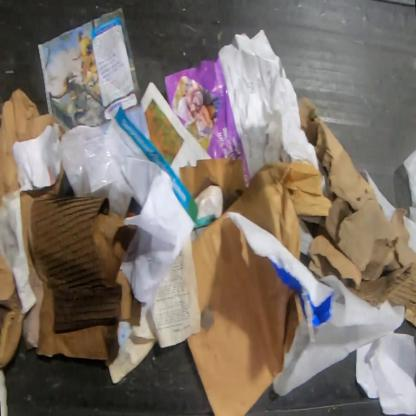cardboard: (298, 95, 415, 310), (188, 212, 304, 415), (23, 193, 143, 367), (223, 162, 332, 261), (0, 88, 67, 203), (20, 159, 65, 266), (180, 158, 246, 213), (0, 248, 25, 372), (404, 306, 415, 327)
soft_plastic: (60, 124, 134, 217)
